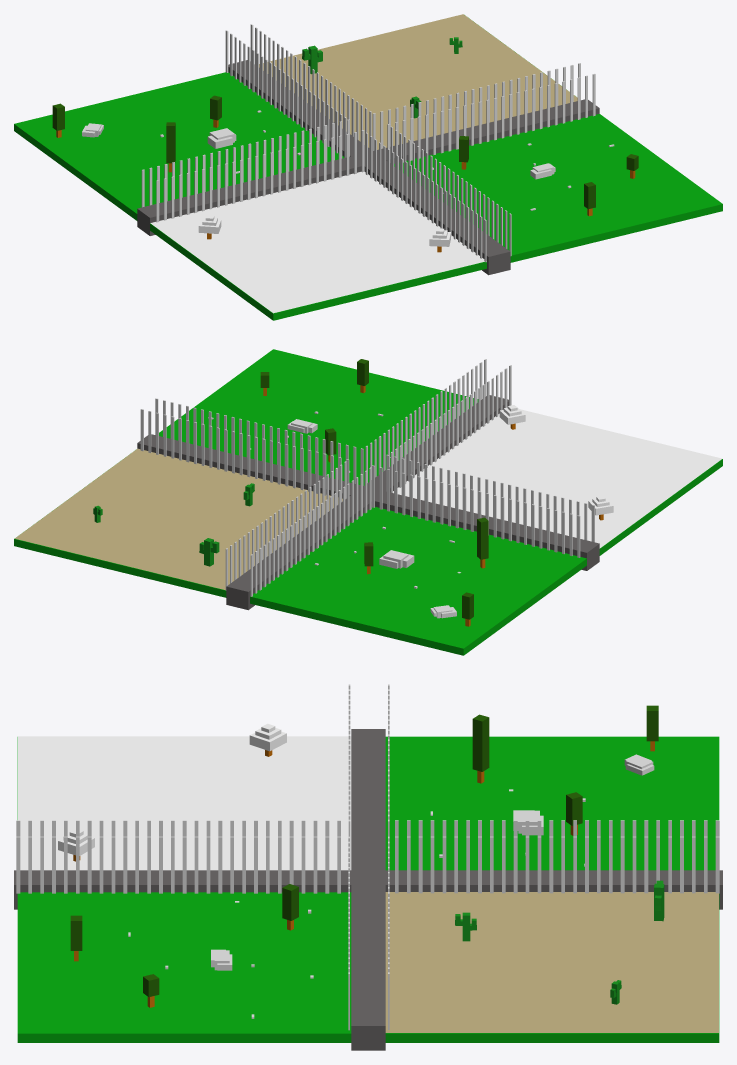
Rendered from zoo.glb.
The picture shows the model from 3 angles, top to bottom: view 1: azimuth 30°, elevation 25°; view 2: azimuth 150°, elevation 25°; view 3: azimuth 270°, elevation 25°; orthographic projection. The views are drawn at different scales.
Visible parts, largest first — view 1: grass, snow, sand, roadX, roadX.001; view 2: grass, sand, snow, roadX, roadX.001; view 3: grass, sand, snow, roadX.001, roadX, tree_leaves.008, tree_leaves.002.
Part boxes in pixels (<box>): grass: <box>14,17,722,320</box>; snow: <box>150,171,484,313</box>; sand: <box>259,14,577,149</box>; roadX: <box>137,99,599,235</box>; roadX.001: <box>228,60,510,275</box>; grass: <box>14,349,722,655</box>; sand: <box>15,448,342,589</box>; snow: <box>393,409,722,548</box>; roadX: <box>137,434,599,570</box>; roadX.001: <box>226,395,508,610</box>; grass: <box>17,736,719,1042</box>; sand: <box>385,892,718,1032</box>; snow: <box>18,736,351,870</box>; roadX.001: <box>14,870,722,909</box>; roadX: <box>351,729,385,1050</box>; tree_leaves.008: <box>472,714,489,771</box>; tree_leaves.002: <box>282,884,298,920</box>.
Size of the model in its own units: 177 by 22.65 by 179.
